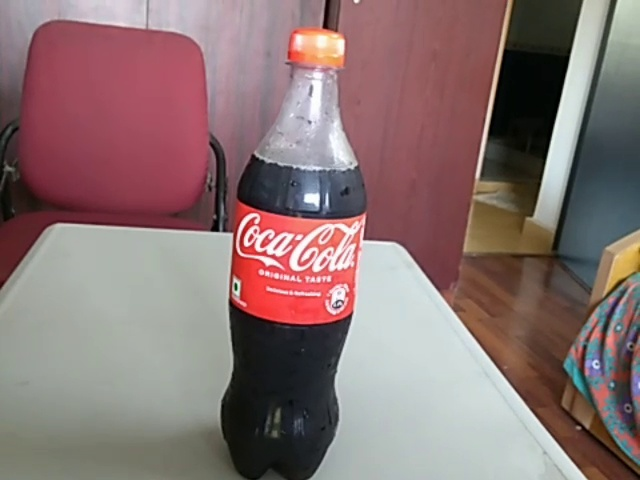Cocacola: (215, 24, 378, 480)
